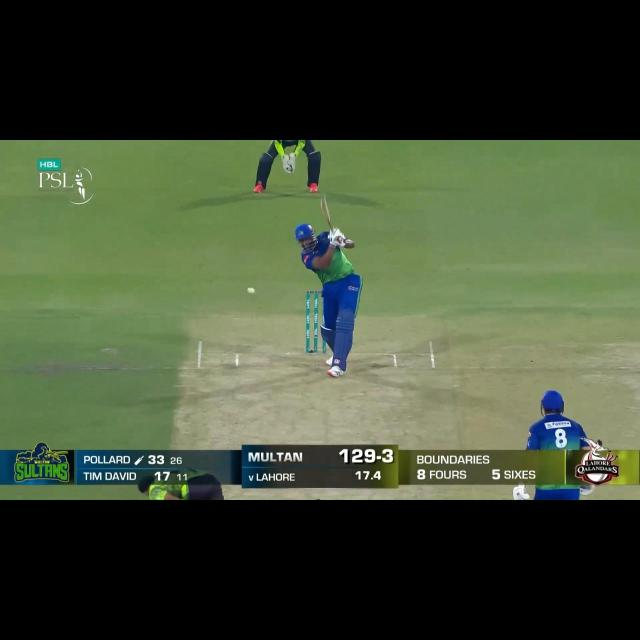bat: (317, 193, 338, 234)
toe: (320, 193, 330, 208)
